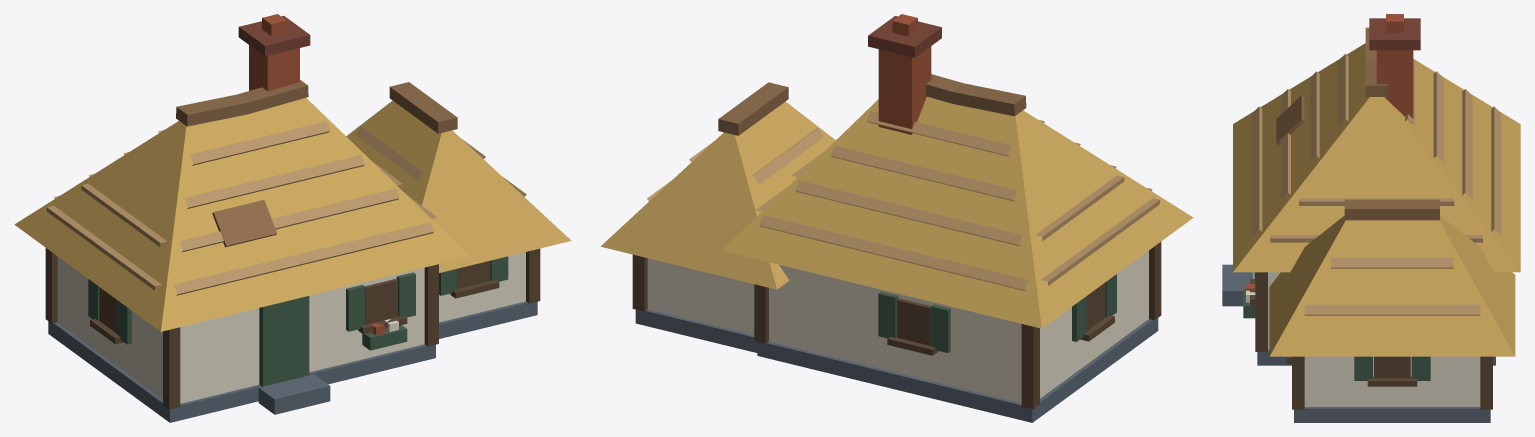
Rendered from cottage-a1.glb.
The picture shows the model from 3 angles, left to right: view 1: azimuth 30°, elevation 25°; view 2: azimuth 150°, elevation 25°; view 3: azimuth 270°, elevation 25°; orthographic projection. The views are drawn at different scales.
Visible parts, largest first — view 1: house, accent; view 2: house, accent; view 3: house, accent.
Boxes of the visible parts, <box> form: house: <box>14,14,571,422</box>; accent: <box>88,256,508,386</box>; house: <box>600,14,1193,422</box>; accent: <box>878,274,1116,352</box>; house: <box>1222,14,1520,422</box>; accent: <box>1243,272,1430,380</box>.
Bounding box in the file's own units: 9.3 × 6.41 × 5.7.
1 material, 1 textured.
